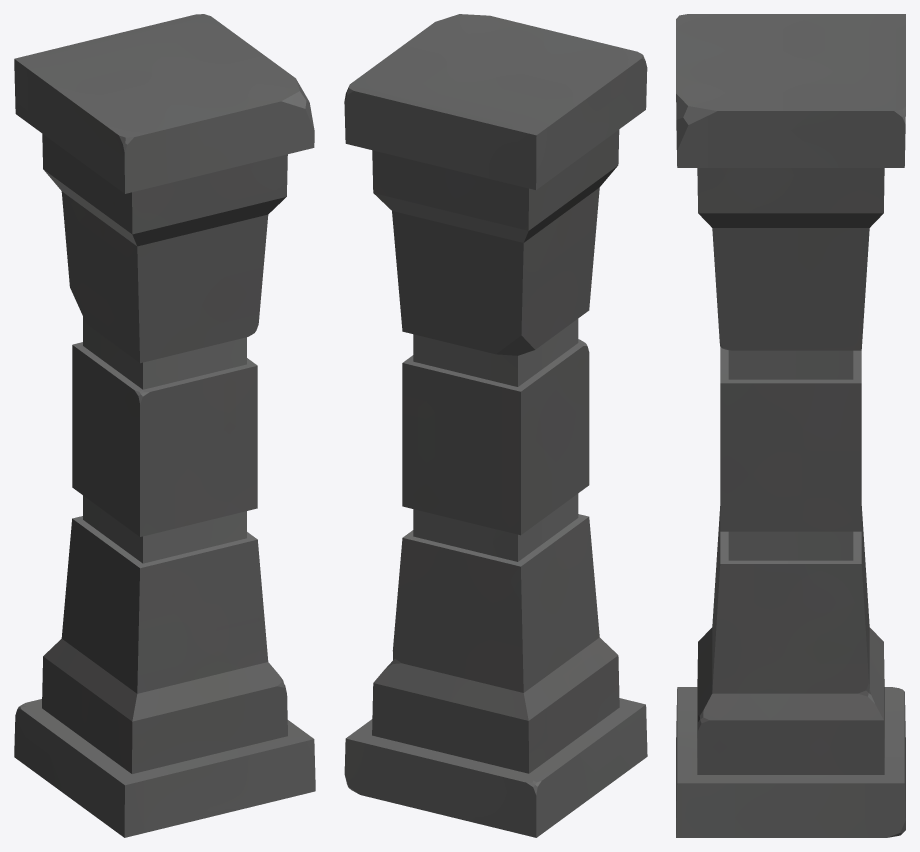
The model's file is Pillar_3.fbx.
The picture shows the model from 3 angles, left to right: view 1: azimuth 30°, elevation 25°; view 2: azimuth 150°, elevation 25°; view 3: azimuth 270°, elevation 25°; orthographic projection. The views are drawn at different scales.
Parts seen in each view (by area): view 1: Pillar 3; view 2: Pillar 3; view 3: Pillar 3.
Boxes of the visible parts, x1=… form: Pillar 3: x1=14, y1=14, x2=315, y2=837; Pillar 3: x1=344, y1=14, x2=647, y2=837; Pillar 3: x1=676, y1=14, x2=905, y2=837.
Bounding box in the file's own units: 71.65 × 250 × 71.65.
